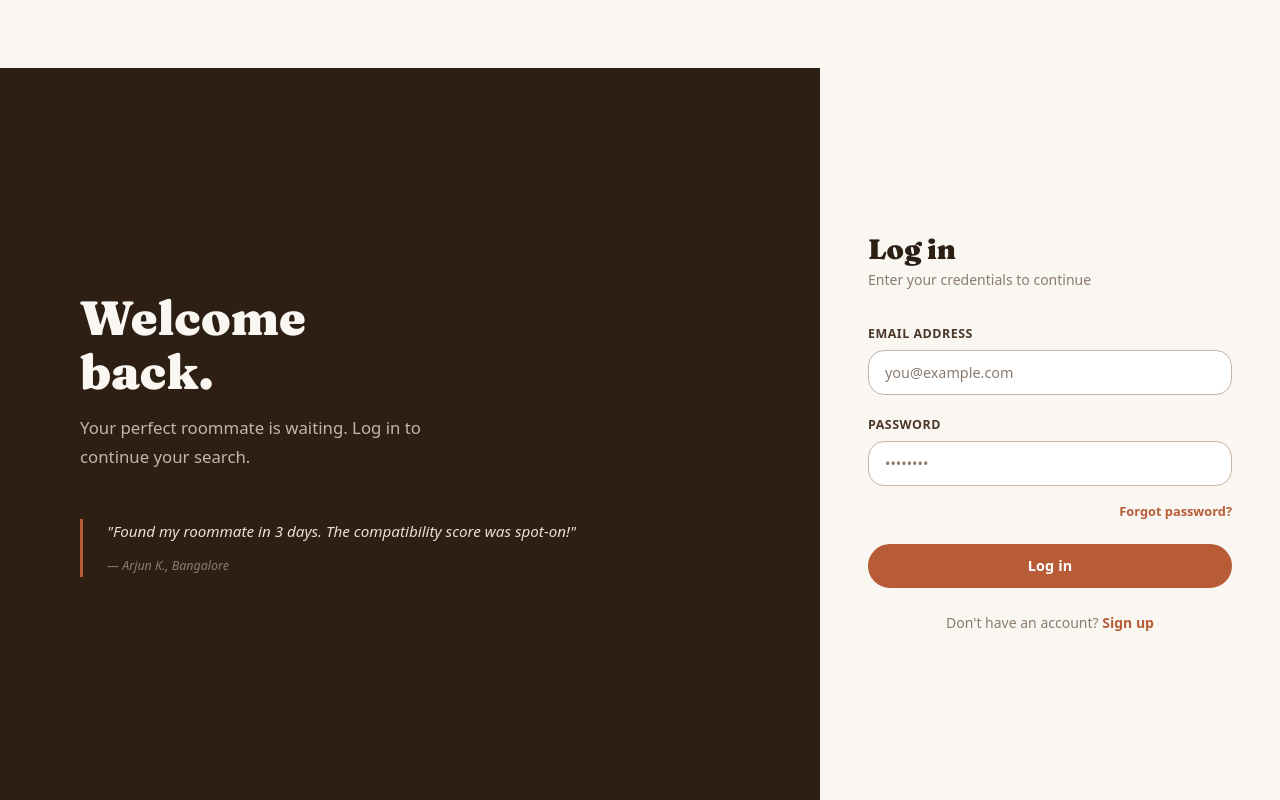
Login page › shows error message on wrong credentials
In the field with placeholder "you@example.com": {"x": 1050, "y": 372} [868, 350, 1232, 395], type "wrong@test.com"
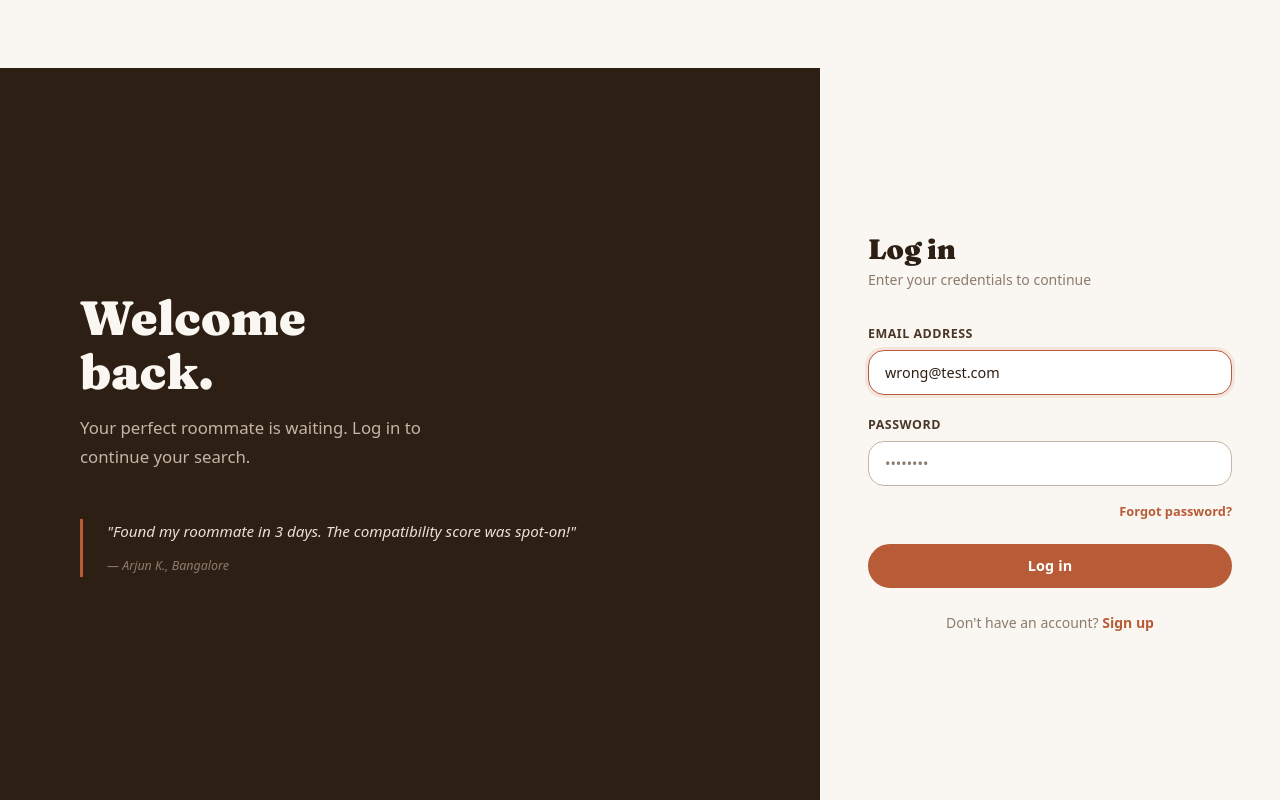
In the password field with placeholder "••••••••": {"x": 1050, "y": 464} [868, 441, 1232, 486], type "wrongpass"
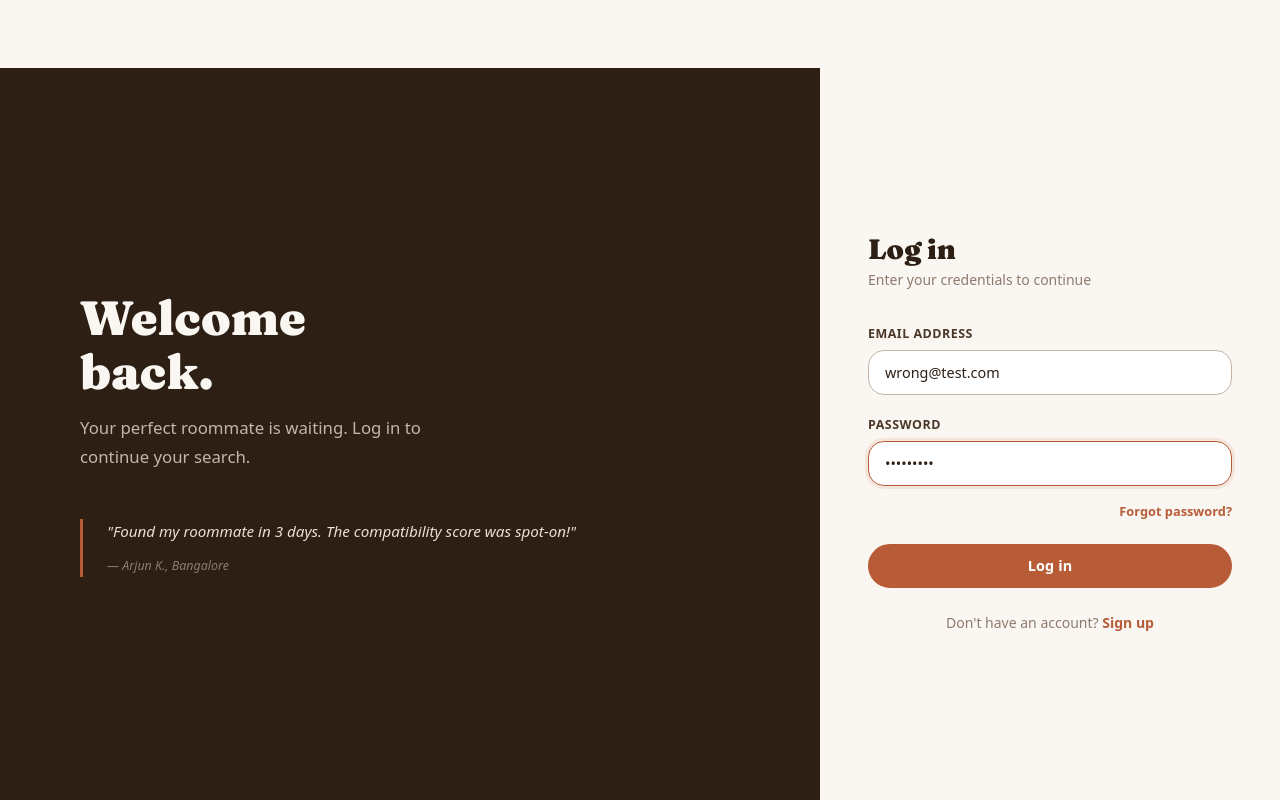
Click the button "Log in": {"x": 1050, "y": 566} [868, 544, 1232, 588]
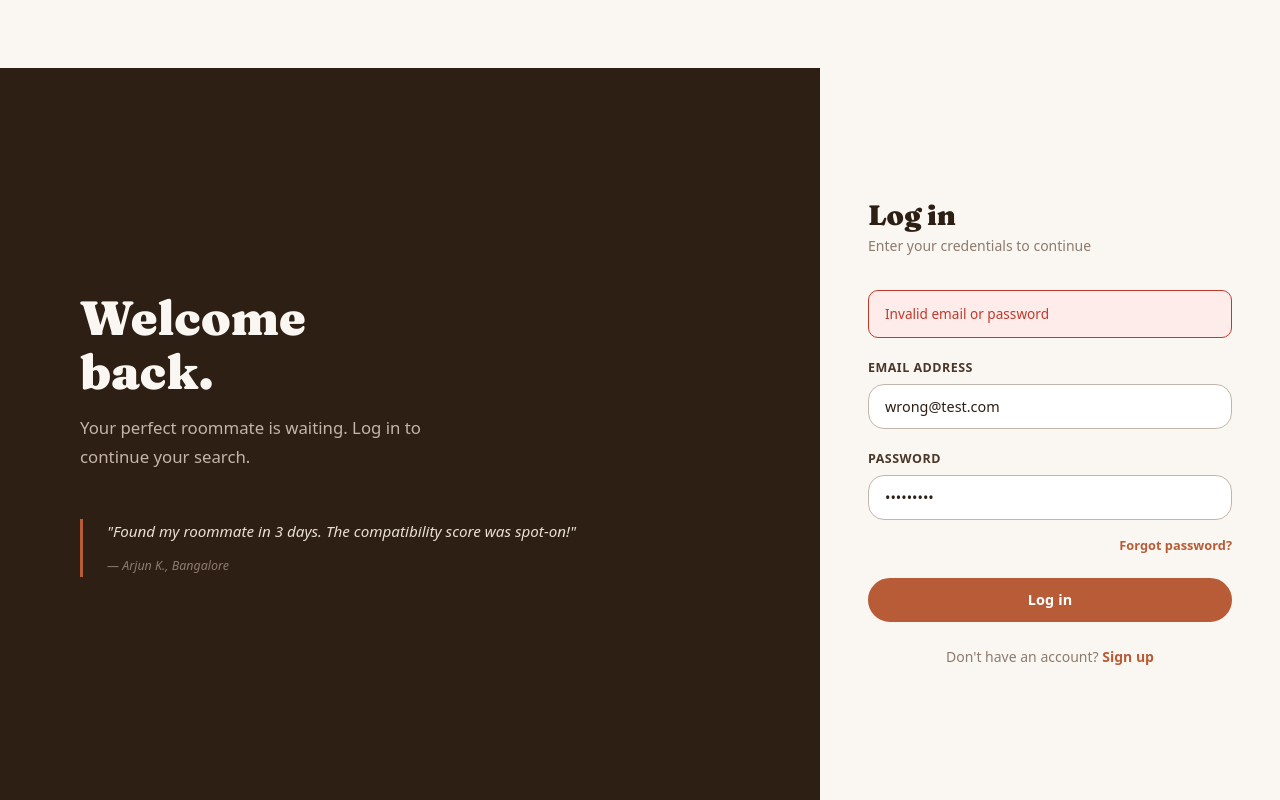
Result: the text "Invalid email or password" is shown at [868, 290, 1232, 338]
